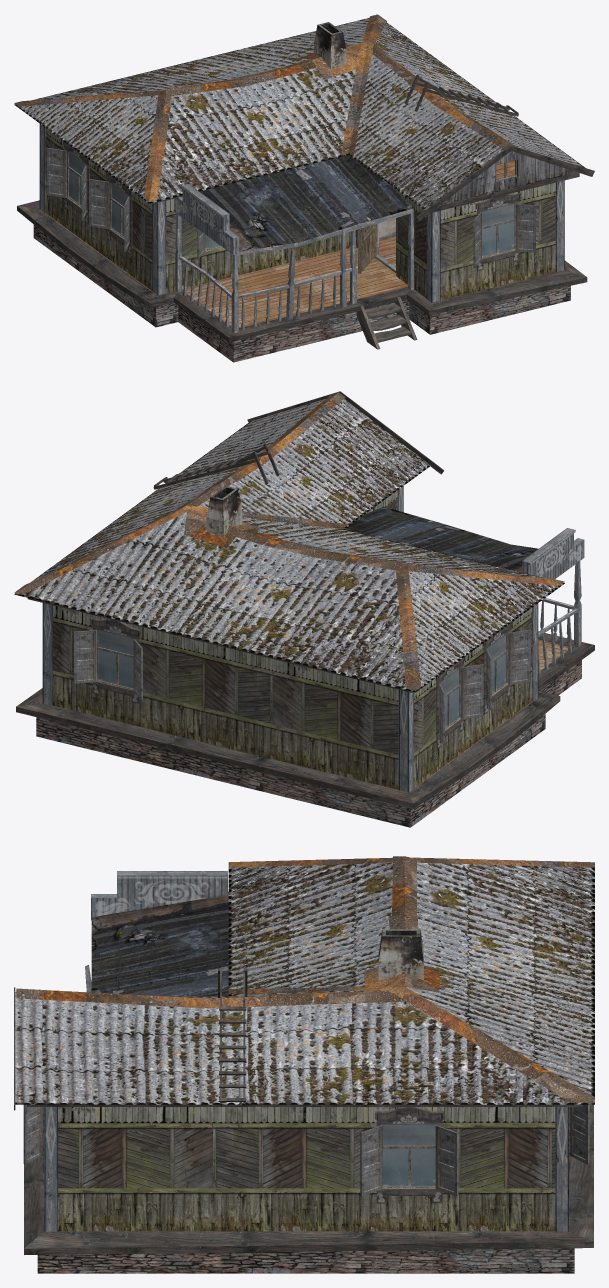
Rendered from old-house.fbx.
The picture shows the model from 3 angles, top to bottom: view 1: azimuth 30°, elevation 25°; view 2: azimuth 150°, elevation 25°; view 3: azimuth 270°, elevation 25°; orthographic projection. The views are drawn at different scales.
Parts seen in each view (by area): view 1: House; view 2: House; view 3: House.
Boxes of the visible parts, <box> form: House: <box>14,14,594,362</box>; House: <box>14,391,594,827</box>; House: <box>14,856,594,1273</box>.
Bounding box in the file's own units: 8.33 × 4.37 × 8.44.
3 materials, 3 textured.
